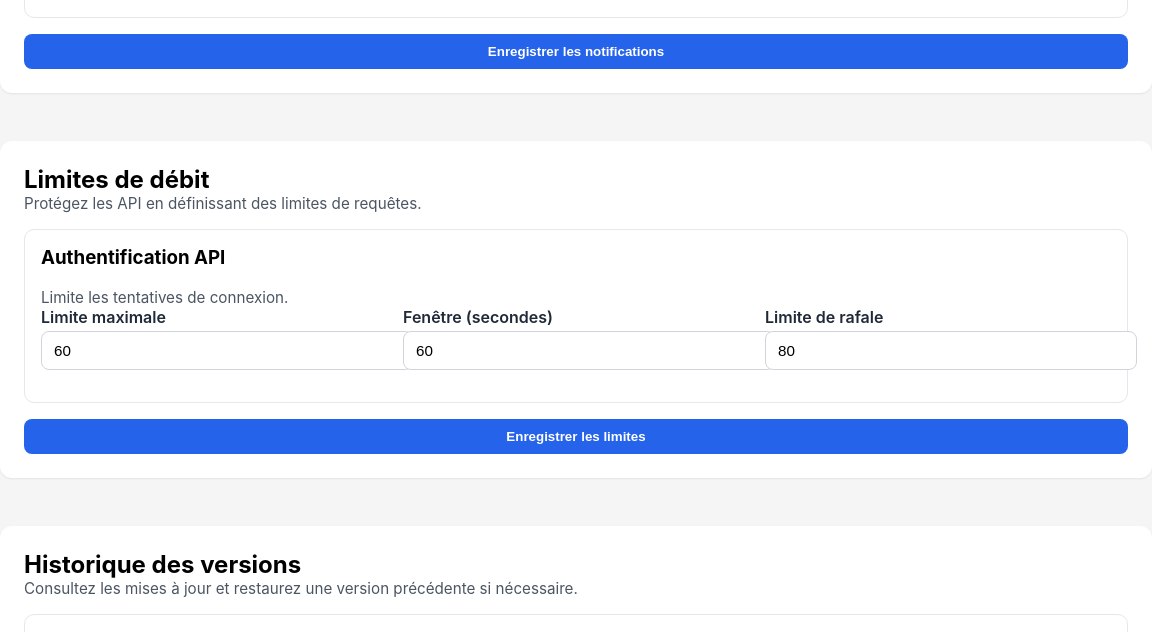
Scenario: Configuration platform RBAC et validation › affiche les erreurs de validation pour les limites de débit invalides
The width and height of the screenshot is (1152, 632).
(page scrolled)
Replace the text in the number field labelled "Limite maximale" with "0": {"x": 227, "y": 350} [41, 331, 413, 370]
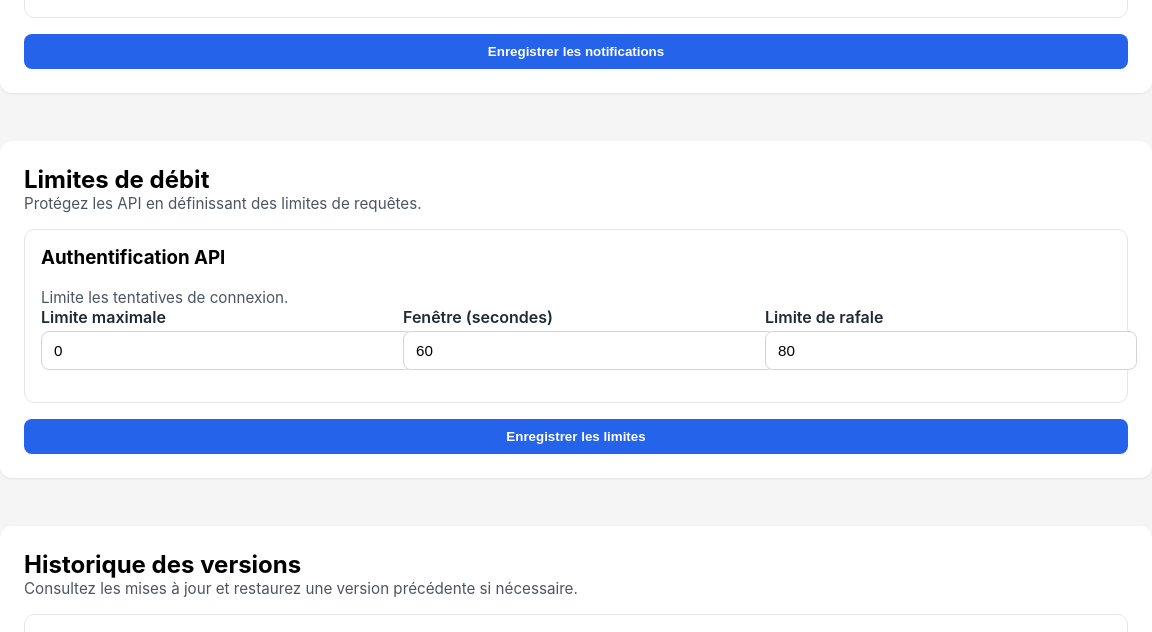
Submit the form named "Enregistrer les limites", box [24, 229, 1128, 454]
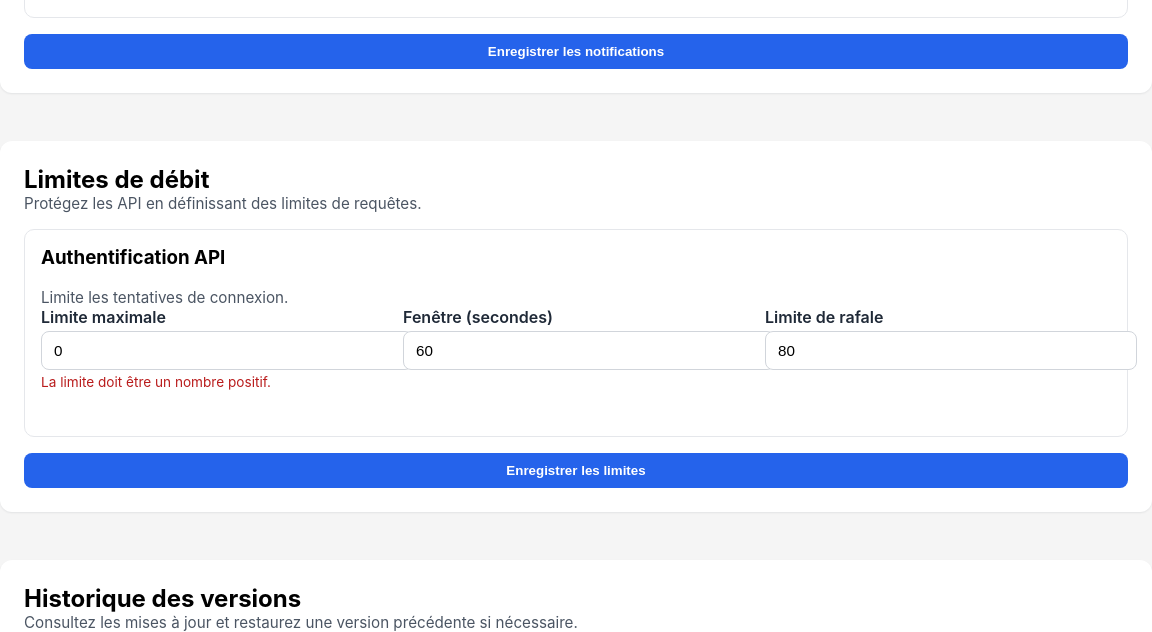
Now the text "La limite doit être un nombre positif." is shown, box [41, 374, 271, 390]
